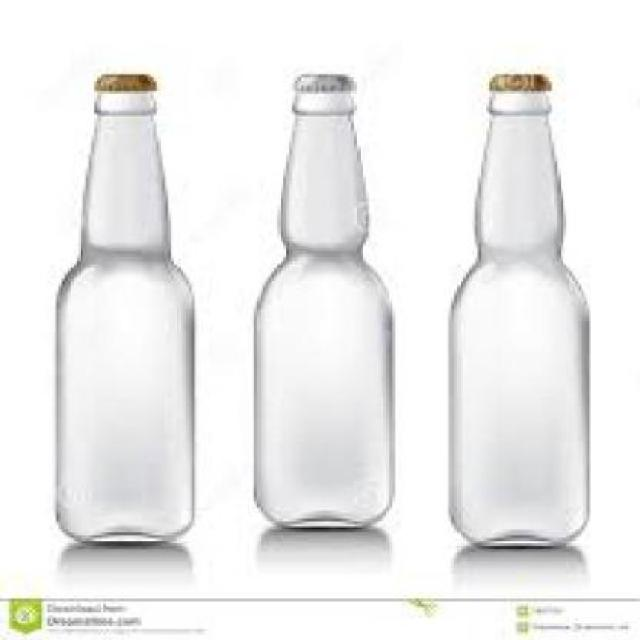kaca: (443, 83, 591, 543), (251, 88, 395, 524), (57, 86, 192, 542)
